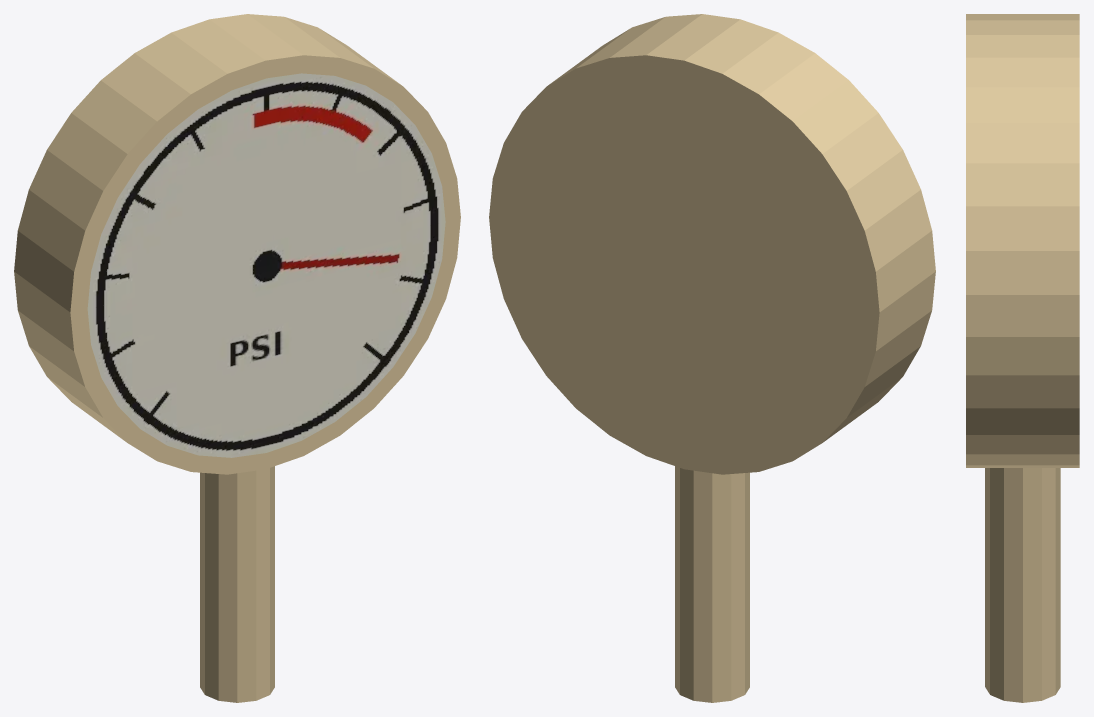
The model's file is pipe_gauge.glb.
The picture shows the model from 3 angles, left to right: view 1: azimuth 30°, elevation 25°; view 2: azimuth 150°, elevation 25°; view 3: azimuth 270°, elevation 25°; orthographic projection.
Parts seen in each view (by area): view 1: Gauge; view 2: Gauge; view 3: Gauge.
Boxes of the visible parts, x1,y1,x2,y2 form: Gauge: [14, 14, 460, 702]; Gauge: [489, 14, 935, 702]; Gauge: [966, 14, 1079, 702].
Bounding box in the file's own units: 0.12 × 0.19 × 0.0305.
2 materials, 1 textured.
